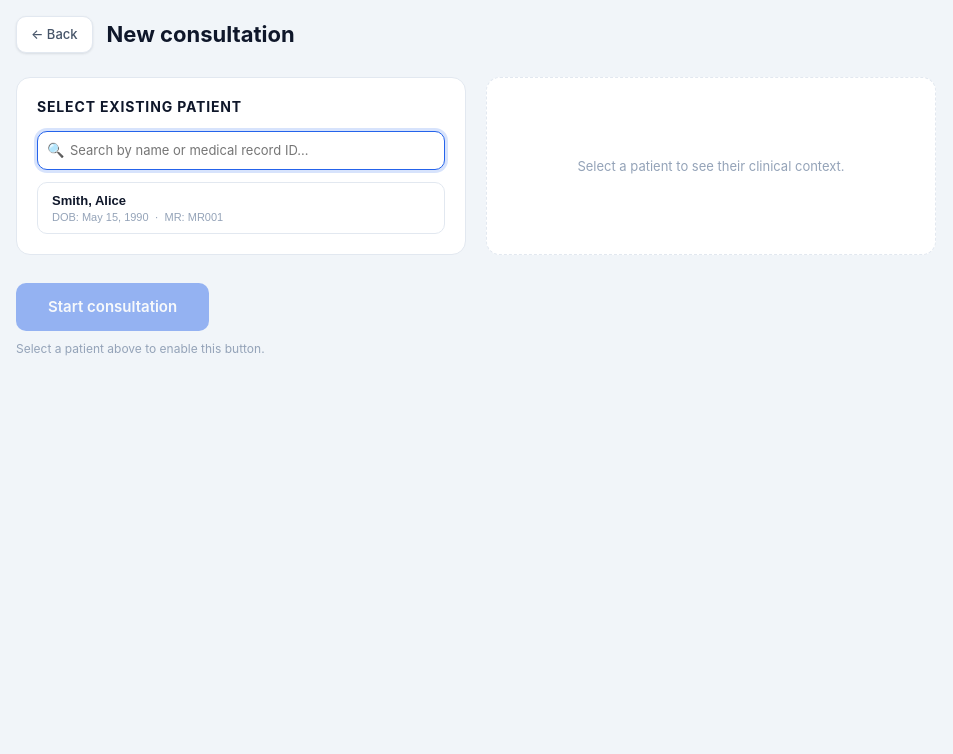
2. patient selection › clicking a result row selects the patient and hides the search panel
The width and height of the screenshot is (953, 754).
What coordinates should you click on to do the following:
click the text "Smith, Alice"
I would click on:
 (89, 201)
Its box is [52,193,126,208].
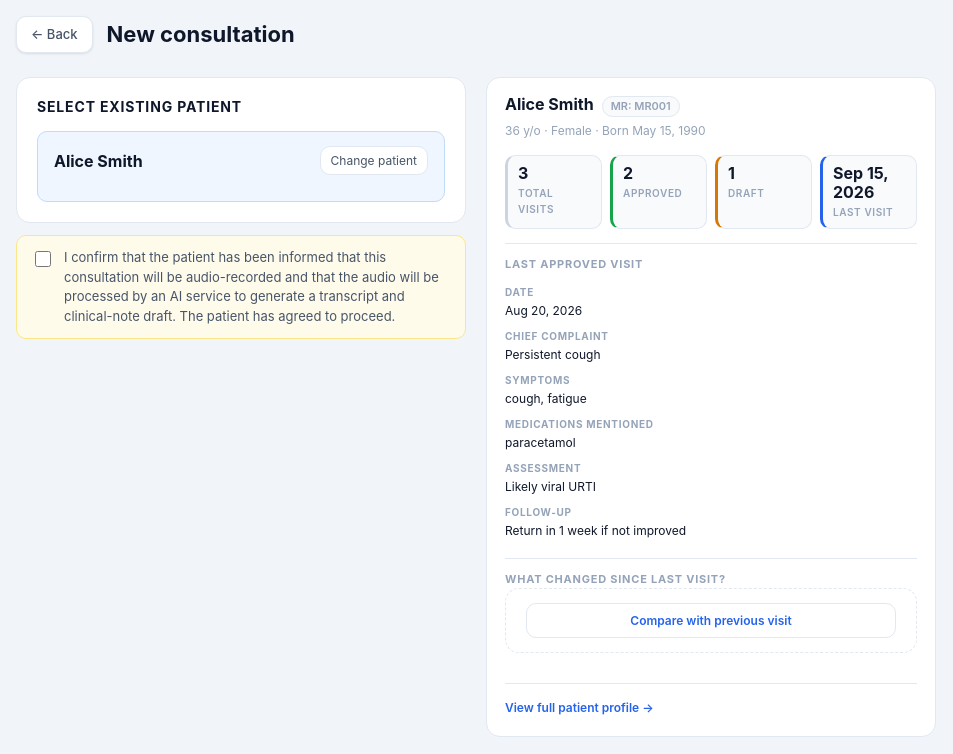
Result: the heading "Alice Smith" below "Select existing patient" is shown at [54,151,143,171]
